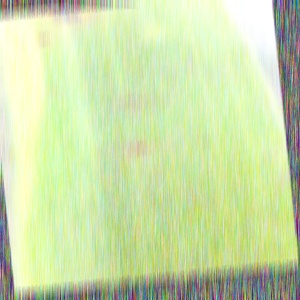Bacterial_Leaf_Blight: (46, 1, 83, 25), (115, 93, 148, 113), (121, 139, 151, 156), (258, 151, 287, 162), (273, 169, 289, 186), (223, 242, 245, 253), (31, 111, 53, 122), (33, 32, 53, 44), (212, 223, 232, 235), (143, 166, 167, 176), (13, 36, 31, 49), (184, 257, 207, 267), (116, 257, 137, 267), (89, 117, 110, 127), (89, 257, 111, 266), (193, 136, 212, 146), (44, 82, 61, 93), (123, 203, 143, 212), (211, 50, 228, 59), (164, 267, 183, 275), (248, 228, 263, 238), (228, 68, 246, 76), (56, 137, 73, 145), (258, 239, 275, 247), (146, 96, 161, 105), (179, 49, 194, 58), (230, 23, 243, 33), (270, 140, 286, 148), (162, 152, 176, 161), (247, 91, 260, 100), (70, 107, 83, 116), (113, 65, 126, 74), (175, 242, 190, 249), (10, 56, 25, 63), (235, 141, 248, 149), (235, 46, 248, 54), (148, 140, 162, 147), (64, 60, 76, 68), (208, 94, 221, 101), (181, 62, 193, 69), (259, 104, 271, 111), (181, 72, 191, 80), (257, 86, 268, 93), (158, 75, 170, 81), (67, 93, 77, 100), (200, 60, 211, 66), (224, 90, 237, 95), (175, 61, 183, 68), (212, 18, 219, 23)
